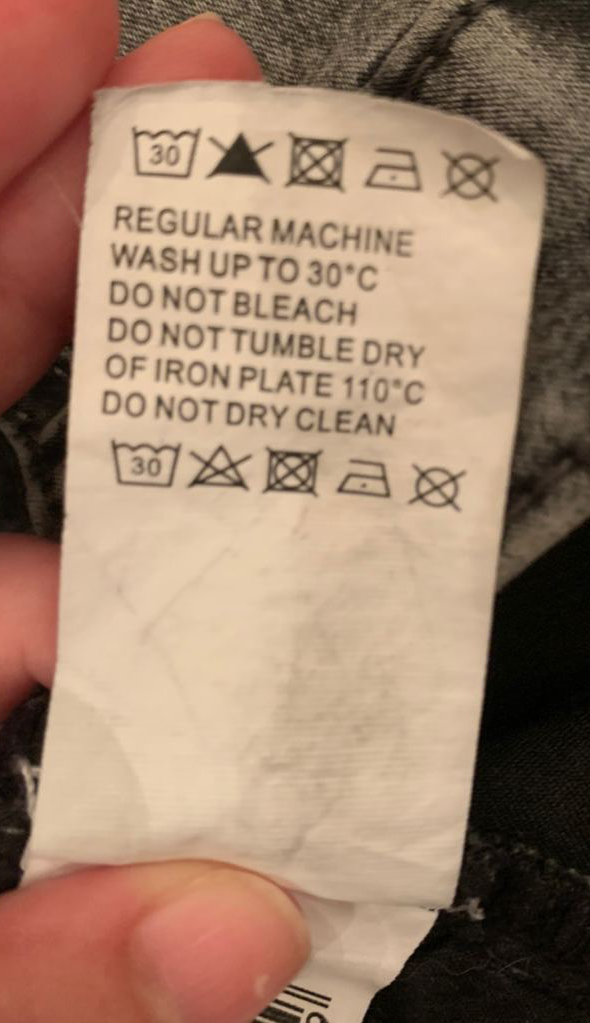do_not_bleach: (184, 437, 257, 495), (204, 128, 277, 183)
do_not_dry_clean: (432, 143, 504, 204), (404, 458, 470, 514)
do_not_tumble_drying: (282, 128, 352, 193), (257, 440, 326, 500)
ironing_at_low_temp: (362, 142, 425, 194), (332, 448, 393, 501)
wash_at_or_below_30: (126, 121, 205, 181), (107, 431, 185, 491)
